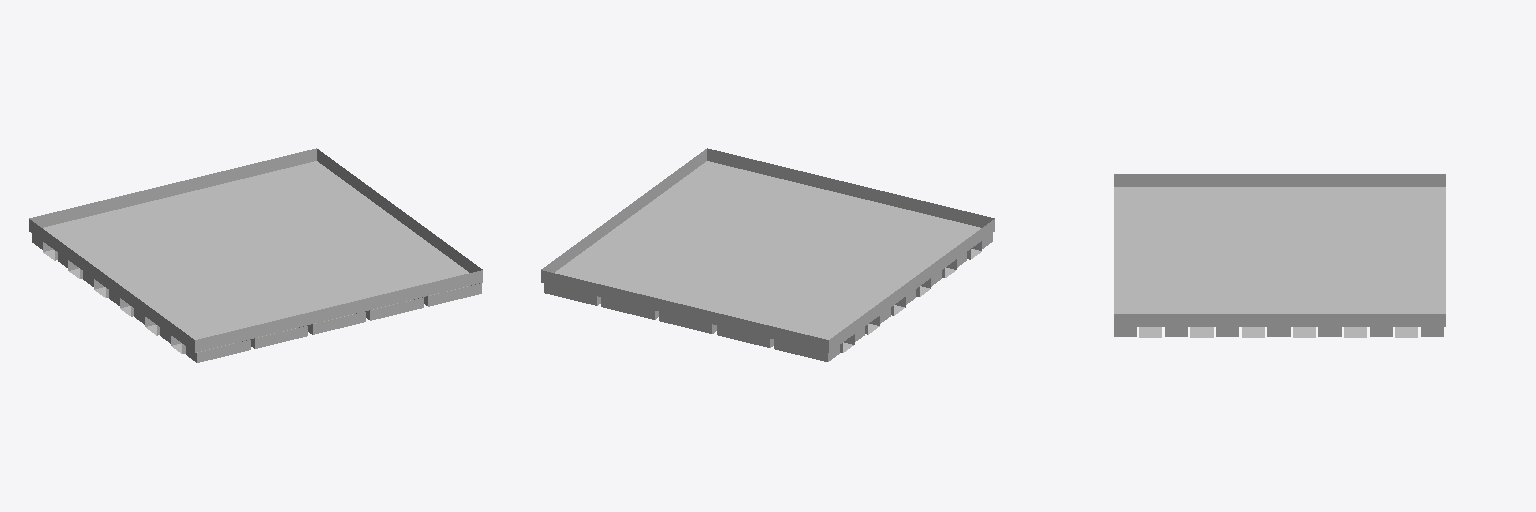
File: UTF-8Regular Stone Tile Wall 2.5m.obj
The picture shows the model from 3 angles: view 1: azimuth 30°, elevation 25°; view 2: azimuth 150°, elevation 25°; view 3: azimuth 270°, elevation 25°; orthographic projection.
Parts seen in each view (by area): view 1: Cube.001; view 2: Cube.001; view 3: Cube.001.
Part boxes in pixels (x1,y1,x2,y2): Cube.001: (29,148,482,362); Cube.001: (541,148,994,361); Cube.001: (1114,174,1445,337).
Size of the model in its own units: 2.5 by 0.1956 by 2.5.